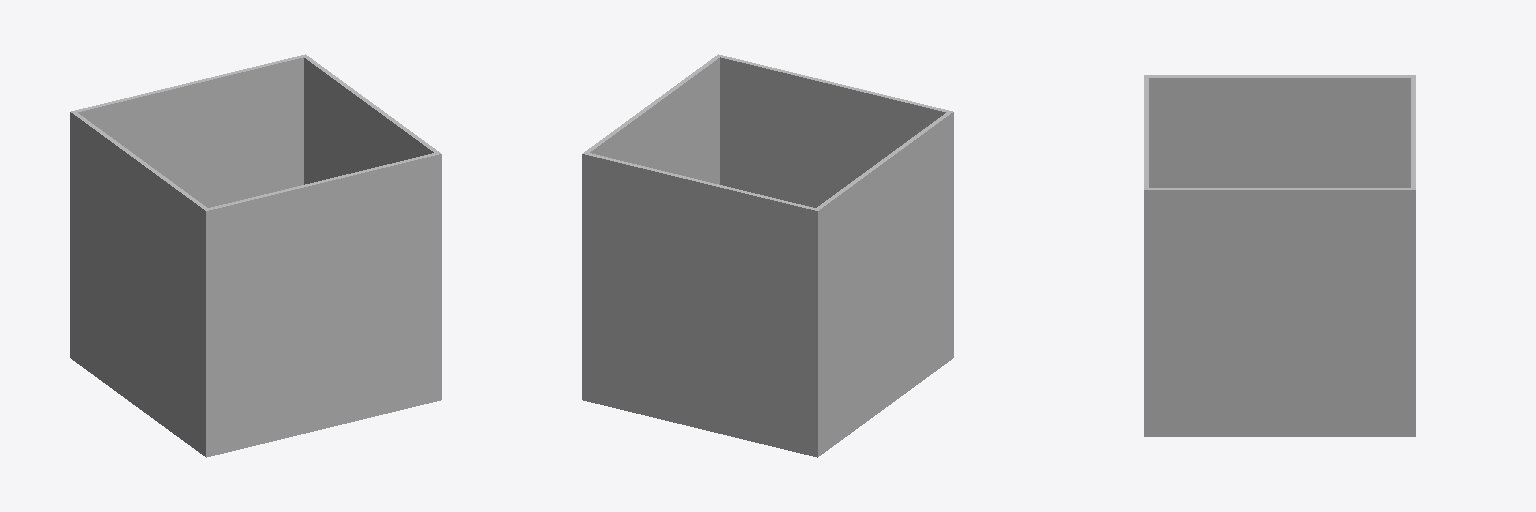
The model's file is close-cube.obj.
The picture shows the model from 3 angles: view 1: azimuth 30°, elevation 25°; view 2: azimuth 150°, elevation 25°; view 3: azimuth 270°, elevation 25°; orthographic projection.
Visible parts, largest first — view 1: Cube; view 2: Cube; view 3: Cube.
Boxes of the visible parts, box(x1,y1,x2,y2) form: Cube: box(70, 54, 441, 457); Cube: box(582, 54, 953, 457); Cube: box(1144, 75, 1415, 436).
Bounding box in the file's own units: 2 × 2 × 2.